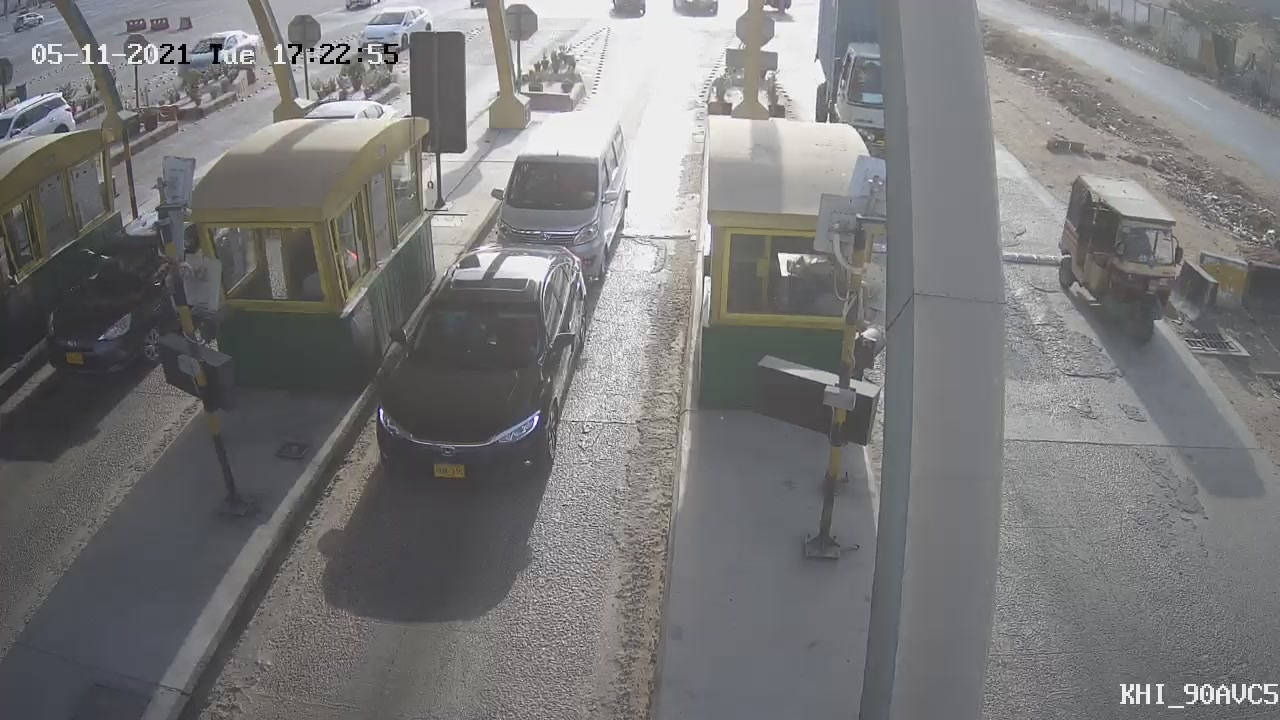F1: (360, 249, 593, 499), (464, 94, 632, 283)
